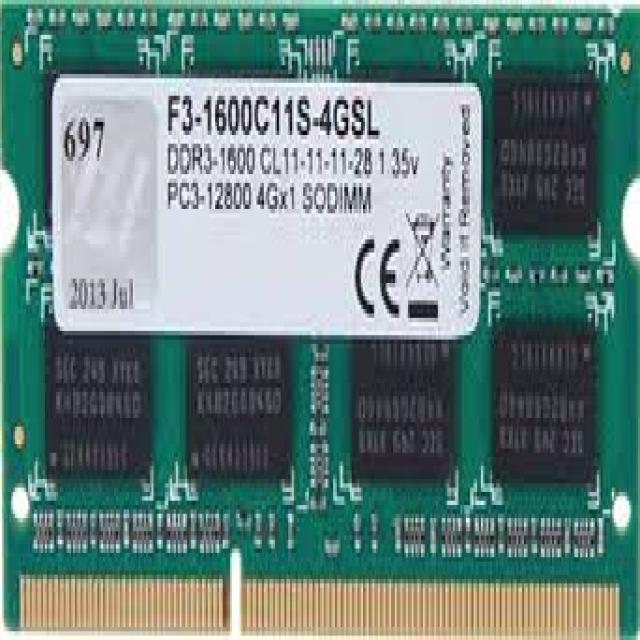Ram: (14, 45, 640, 640)
